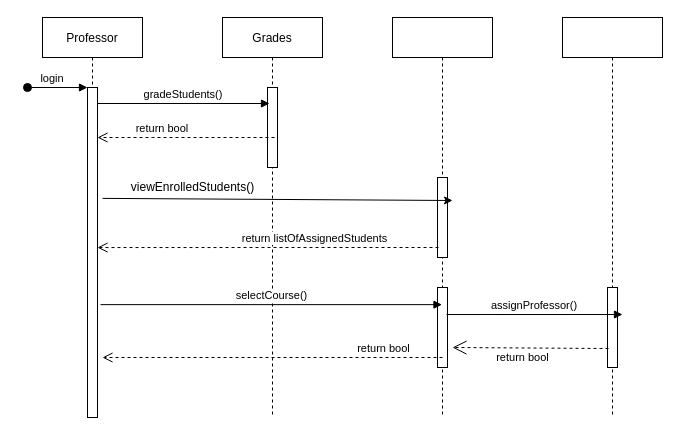
Image size: 680x435. Some labels were removed from this diagram. Each missing label, with the box of its shape:
Catalog: (562, 16, 662, 418)
Course: (392, 16, 492, 418)
